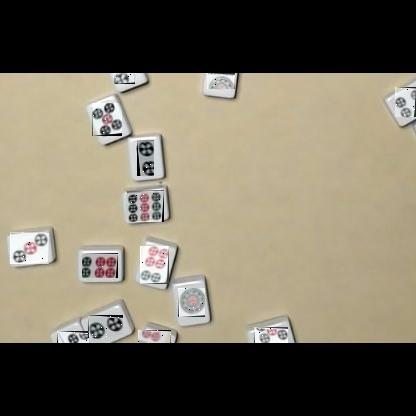1p: (178, 288, 205, 317), (207, 73, 235, 89)
2p: (88, 315, 123, 337), (137, 140, 154, 176), (113, 73, 135, 84)
3p: (10, 232, 49, 264)
4p: (395, 87, 416, 117)
5p: (92, 103, 122, 136), (254, 327, 288, 343), (57, 331, 89, 343)
6p: (140, 246, 169, 284), (82, 253, 118, 278)
7p: (138, 330, 171, 343)
9p: (126, 190, 164, 222)
